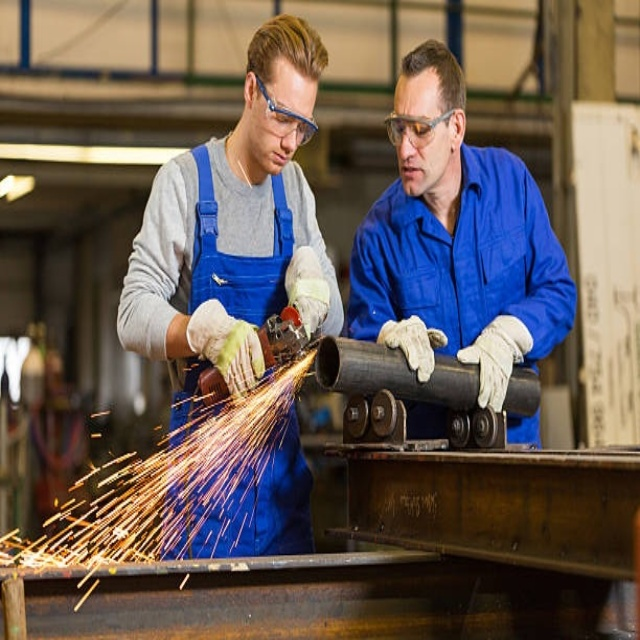Gafas: (255, 75, 319, 146), (386, 108, 458, 147)
Guantes: (455, 314, 535, 412), (187, 297, 266, 395), (378, 315, 449, 383), (284, 246, 330, 337)
Sin_mascara: (399, 155, 426, 191), (262, 146, 289, 174)
